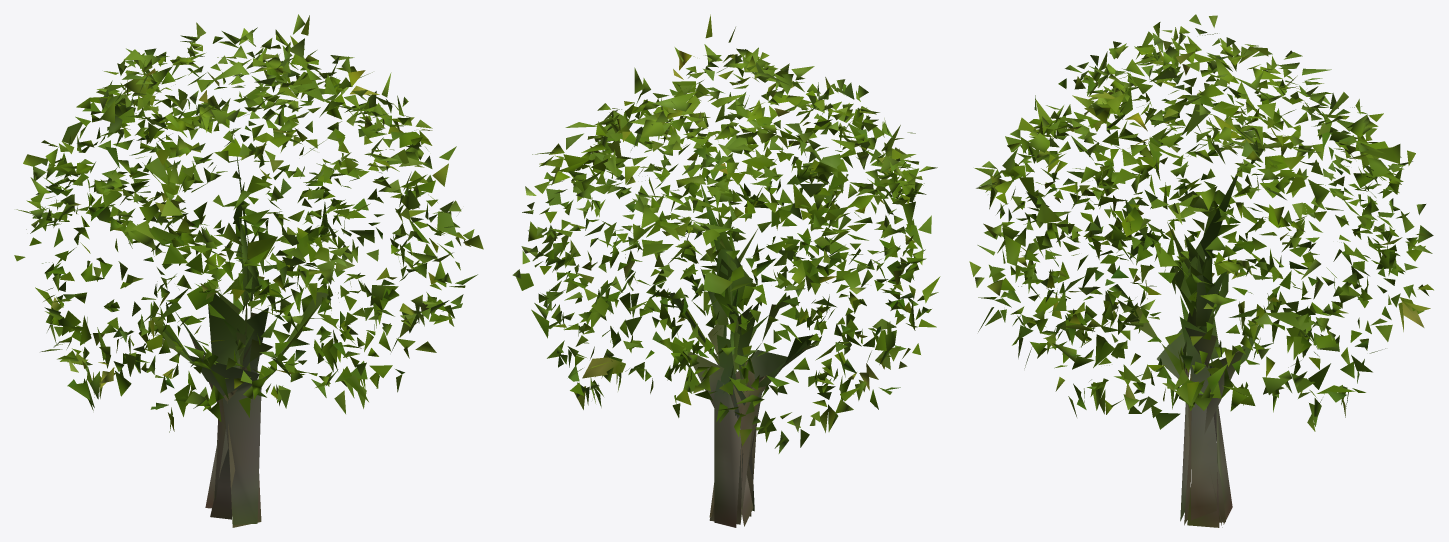
File: oranger-lod.glb
3 renders of one model, left to right at view 1: azimuth 30°, elevation 25°; view 2: azimuth 150°, elevation 25°; view 3: azimuth 270°, elevation 25°, orthographic. The views are drawn at different scales.
Visible parts, largest first — view 1: Mesh_0; view 2: Mesh_0; view 3: Mesh_0.
Part boxes in pixels (x1=…): Mesh_0: x1=14, y1=14, x2=483, y2=527; Mesh_0: x1=512, y1=14, x2=940, y2=527; Mesh_0: x1=969, y1=14, x2=1433, y2=527.
Bounding box in the file's own units: 1.58 × 1.9 × 1.59.
Materials: 1 (1 with a texture image).
